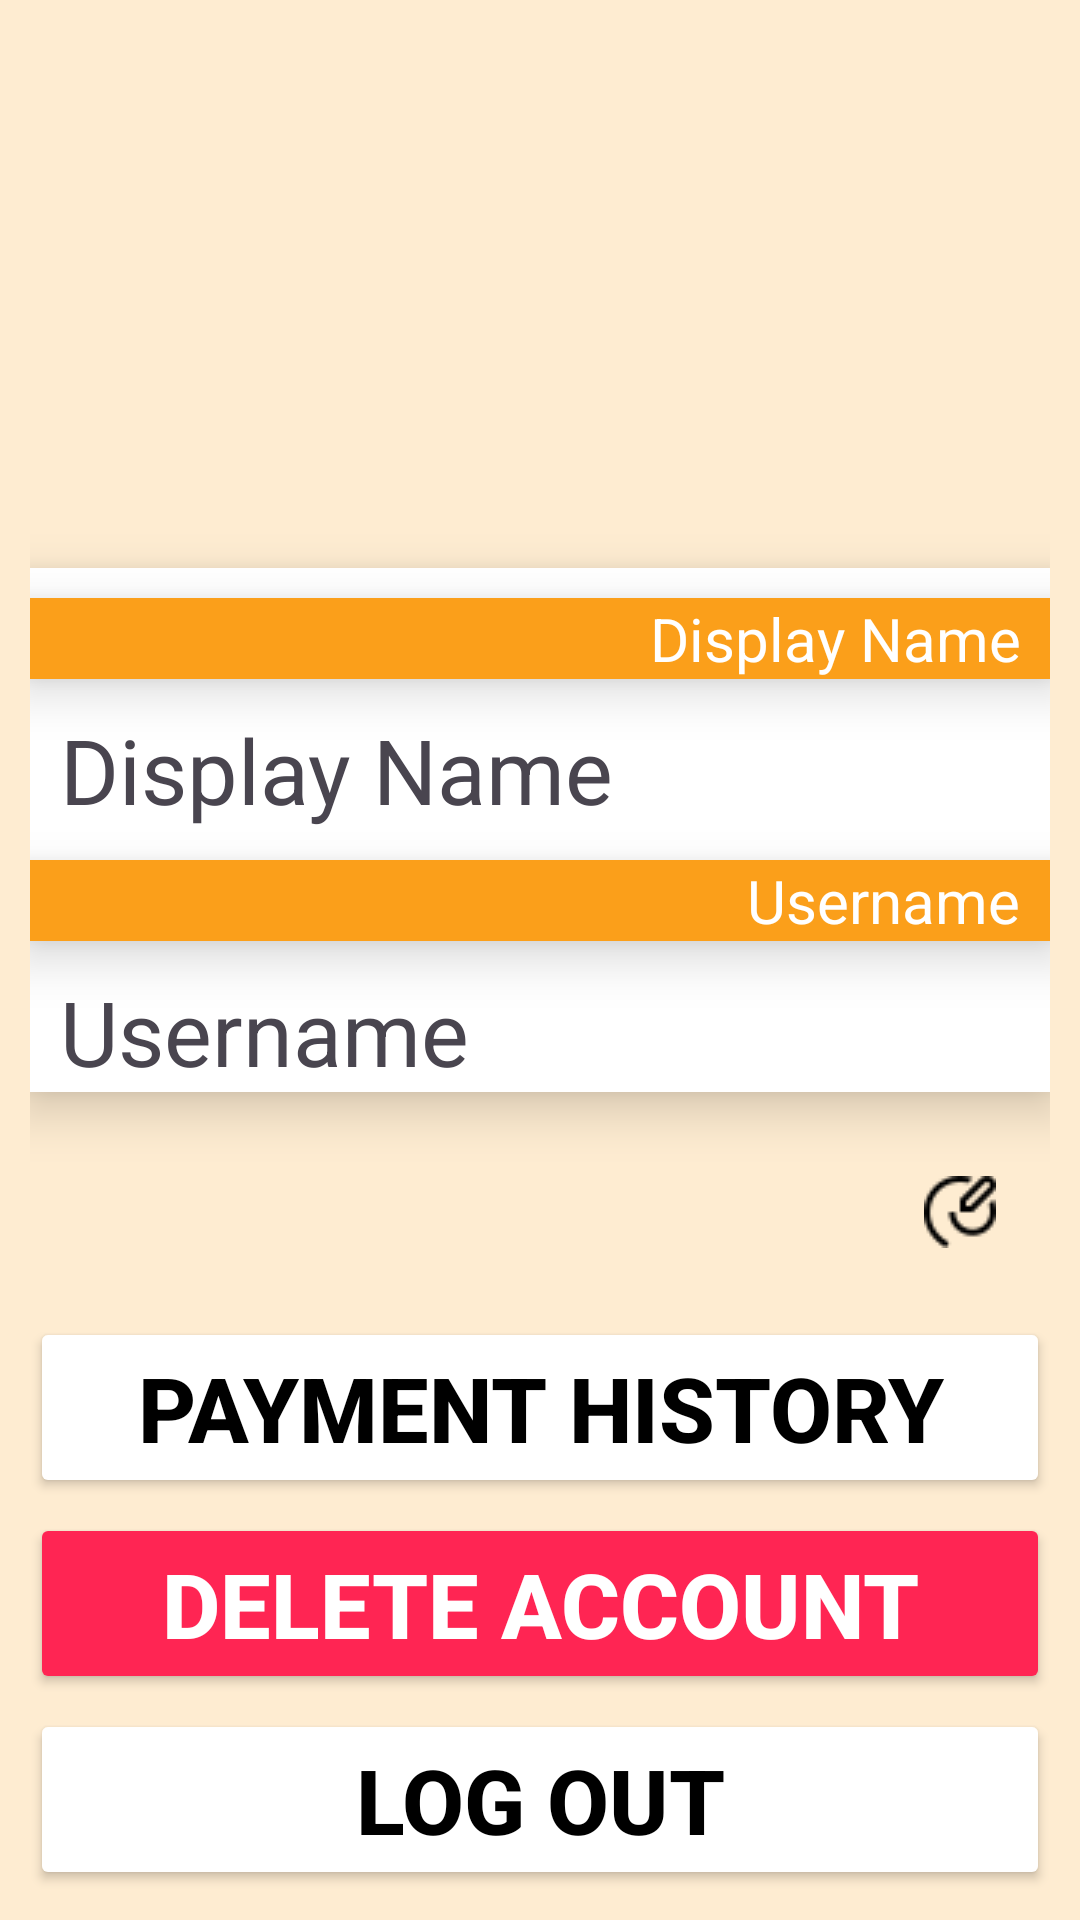

Screen size 1080w x 1920h. Icon name, then its box in pixels as (x1, y1, x2, y2):
pen: (924, 1176, 996, 1248)
